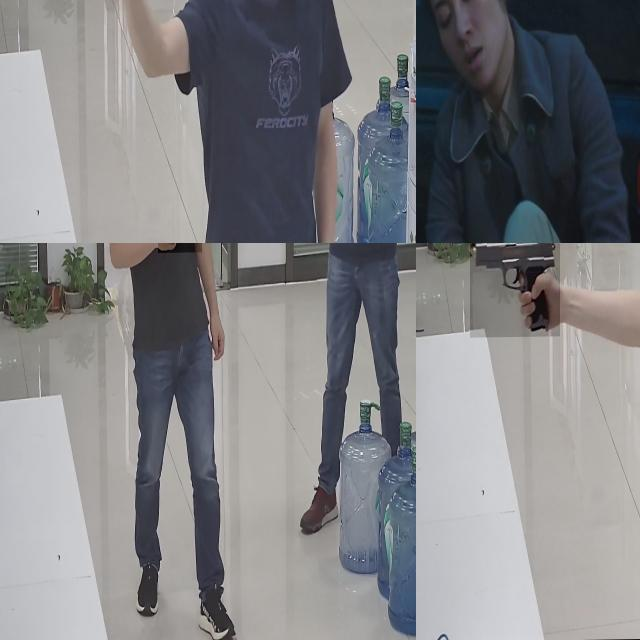gun-knife-thesis - v11 Yolov5 augmented: (469, 243, 560, 337), (99, 0, 150, 85), (416, 64, 447, 178), (157, 243, 202, 275)
